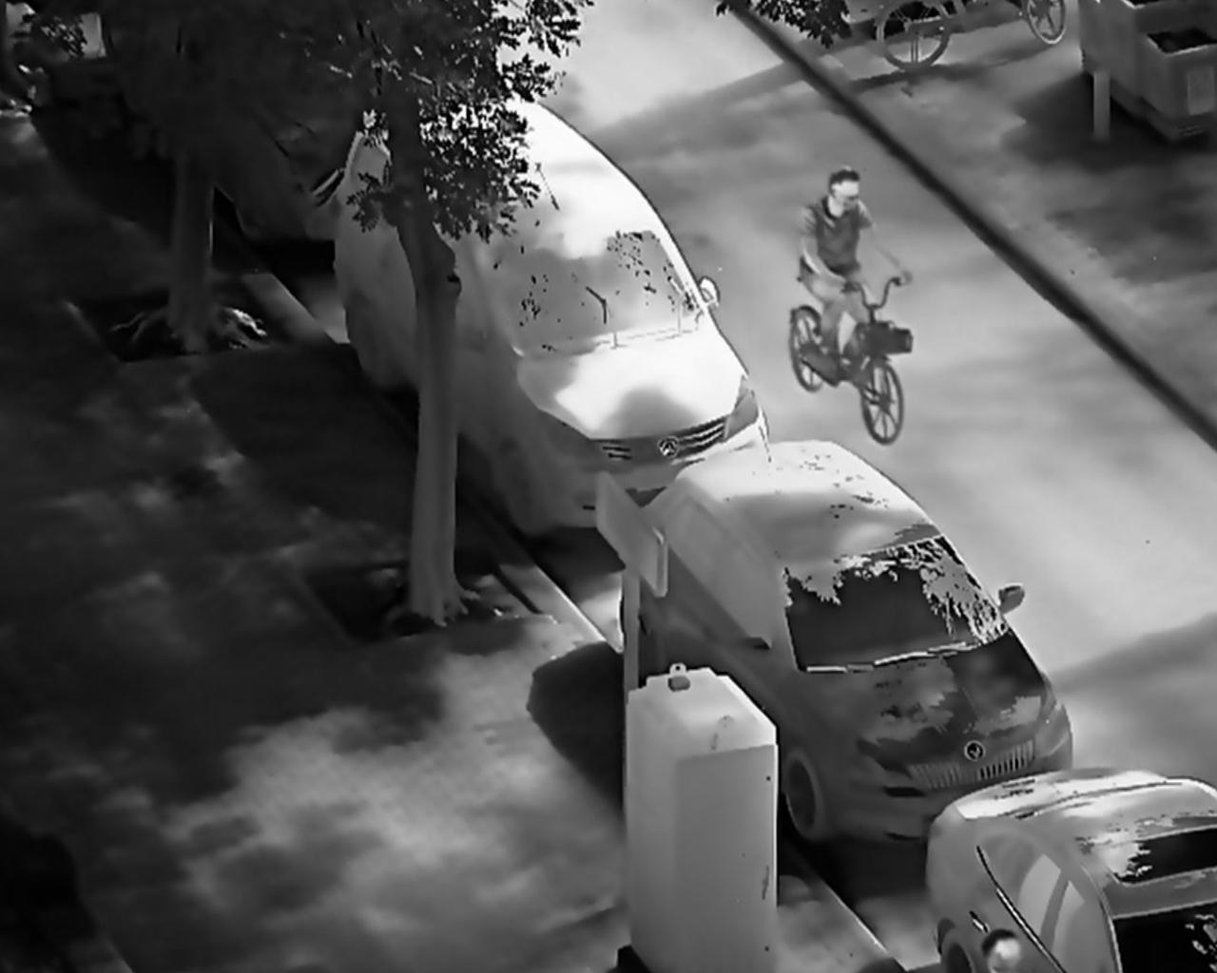person: (797, 165, 914, 372)
